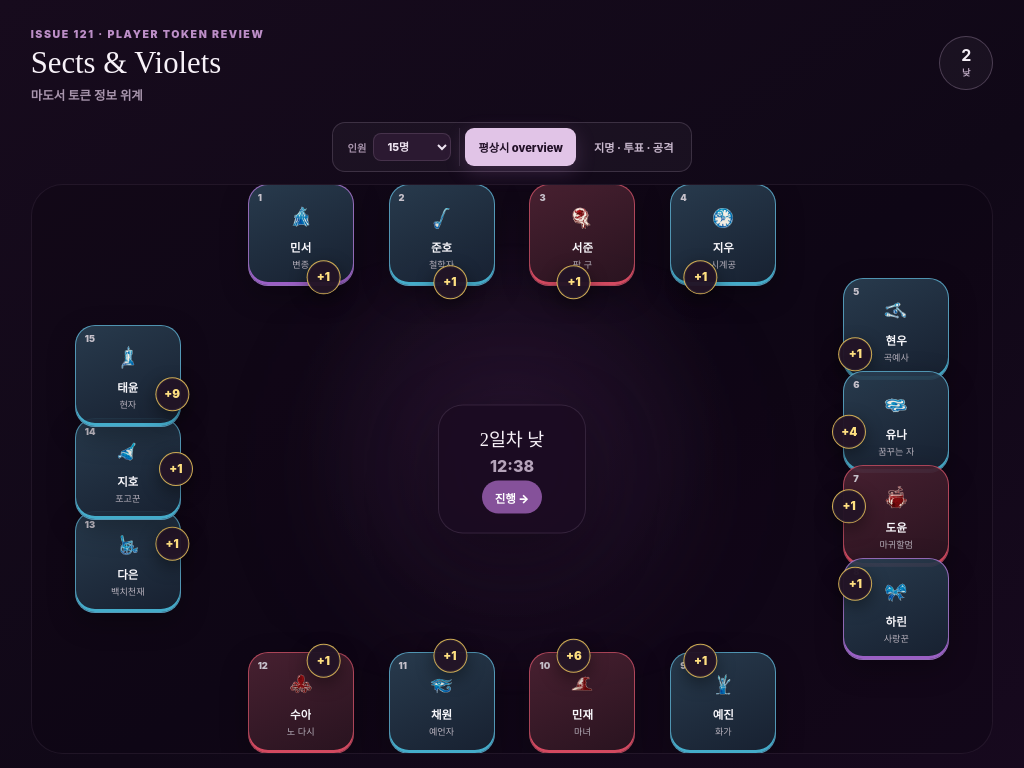
Test: hides token affordances and player details during nomination, voting, and attack work
The width and height of the screenshot is (1024, 768).
Click the button "지명 · 투표 · 공격": x=634, y=147 [581,128,686,166]
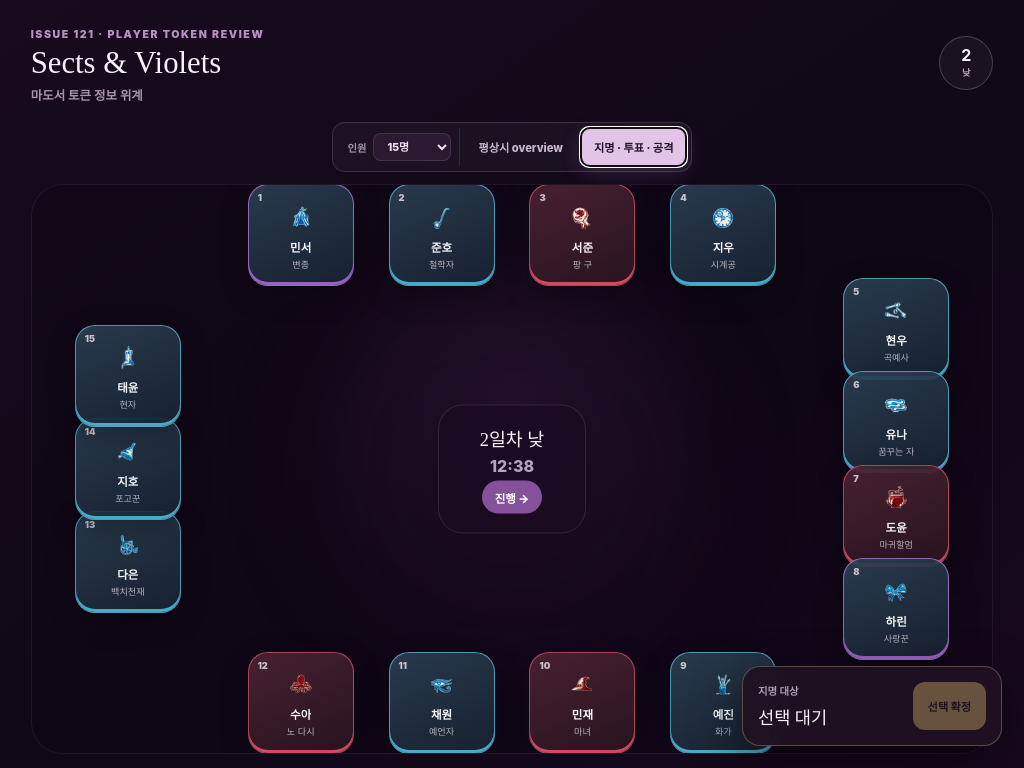
Expected: the text "+1" is gone
Expected: the text "+4" is gone
Click the button with aria-label "6번 유나 선택": x=896, y=422 [843,371,949,473]
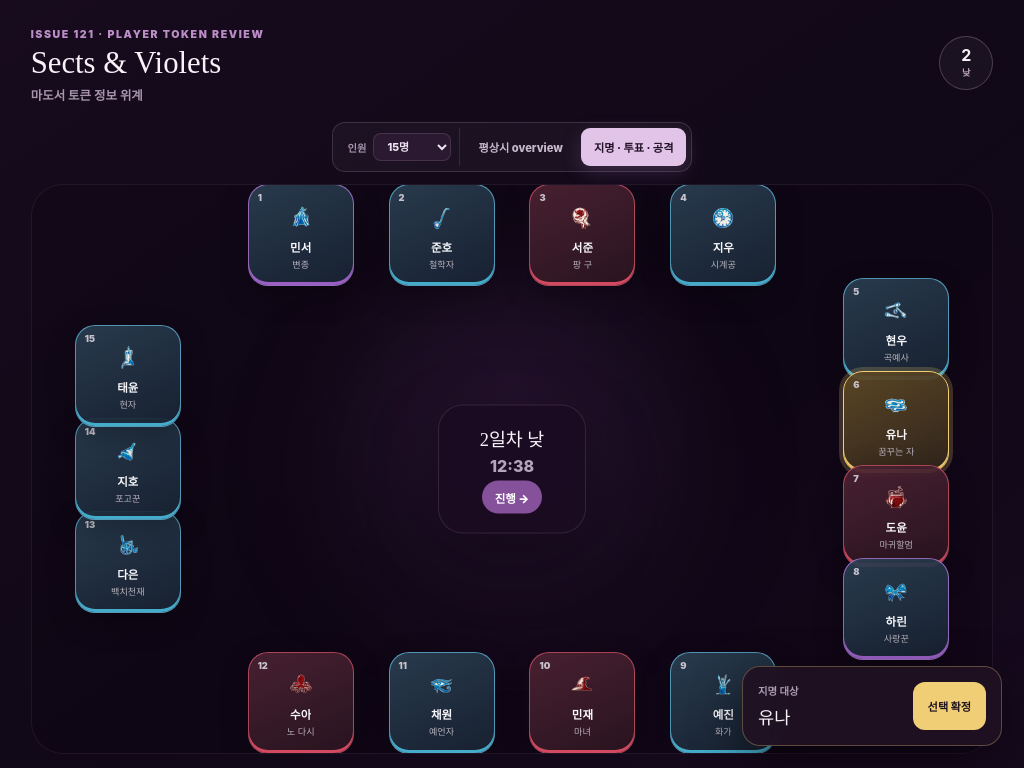
Expected: the button with aria-label "6번 유나 선택됨" is shown, [843,371,949,473]
